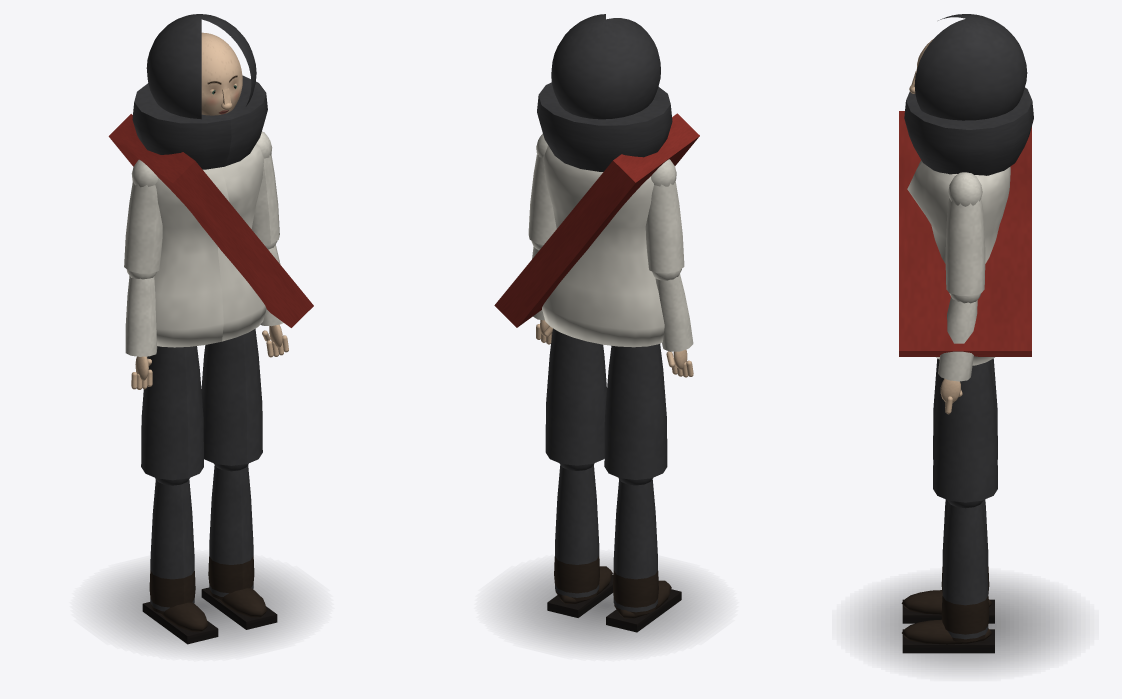
File: npc_maren.glb
The picture shows the model from 3 angles, left to right: view 1: azimuth 30°, elevation 25°; view 2: azimuth 150°, elevation 25°; view 3: azimuth 270°, elevation 25°; orthographic projection. The views are drawn at different scales.
Parts seen in each view (by area): view 1: chest, head, object 11, legL, legR, shinL, shinR, armL, foreL, armR, foreR; view 2: chest, head, object 11, legL, legR, shinL, shinR, armL, foreL, armR; view 3: chest, head, object 11, shinR, legR, armR, foreR, shinL, legL.
Part boxes in pixels (x1,y1,x2,y2): chest: (108,114,313,347); head: (132,14,267,169); object 11: (96,561,306,649); legL: (141,346,203,480); legR: (201,328,262,465); shinL: (142,478,218,644); shinR: (201,463,277,629); armL: (124,159,162,273); foreL: (125,269,157,389); armR: (251,131,279,245); foreR: (260,241,288,357); chest: (494,113,699,347); head: (537,14,672,171); object 11: (501,561,711,649); legL: (604,344,667,479); legR: (545,328,606,465); shinL: (606,477,681,632); shinR: (547,463,613,617); armL: (645,159,684,273); foreL: (652,269,693,377); armR: (528,133,556,244); chest: (899,111,1031,365); head: (904,14,1033,175); object 11: (858,580,1072,669); shinR: (902,500,994,653); legR: (933,360,997,502); armR: (945,172,985,295); foreR: (938,293,980,414); shinL: (901,499,994,623); legL: (933,358,997,459).
Size of the model in its own units: 0.77 by 1.83 by 0.77.
5 materials, 4 textured.
